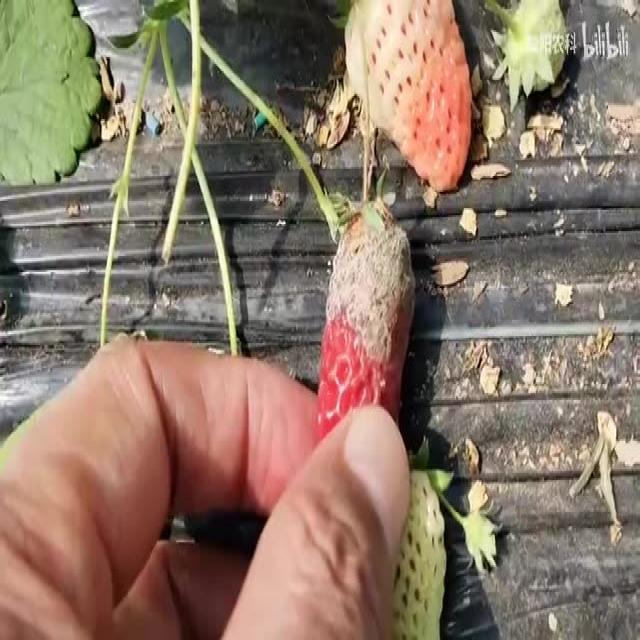Moho gris: (302, 167, 414, 457)
